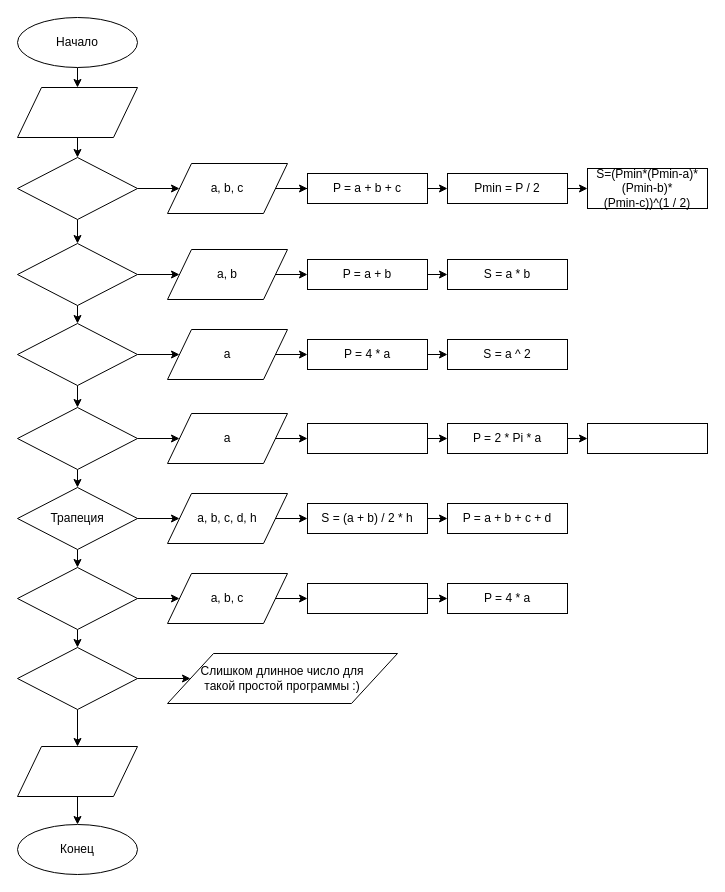
Some shapes in this 725 by 892 pixel diagram are drawn without their labels. The centre of each missing label's shape, as x and y in pixels:
Else: (x=77, y=678)
Name: (x=77, y=112)
P, S: (x=77, y=771)
Pi = 3.14: (x=367, y=438)
S = b * c / 2: (x=367, y=598)
S = Pi * a ^ 2: (x=647, y=438)
Квадрат: (x=77, y=354)
Круг: (x=77, y=438)
Прямоугольник: (x=77, y=274)
Ромб: (x=77, y=598)
Треугольник: (x=77, y=188)
